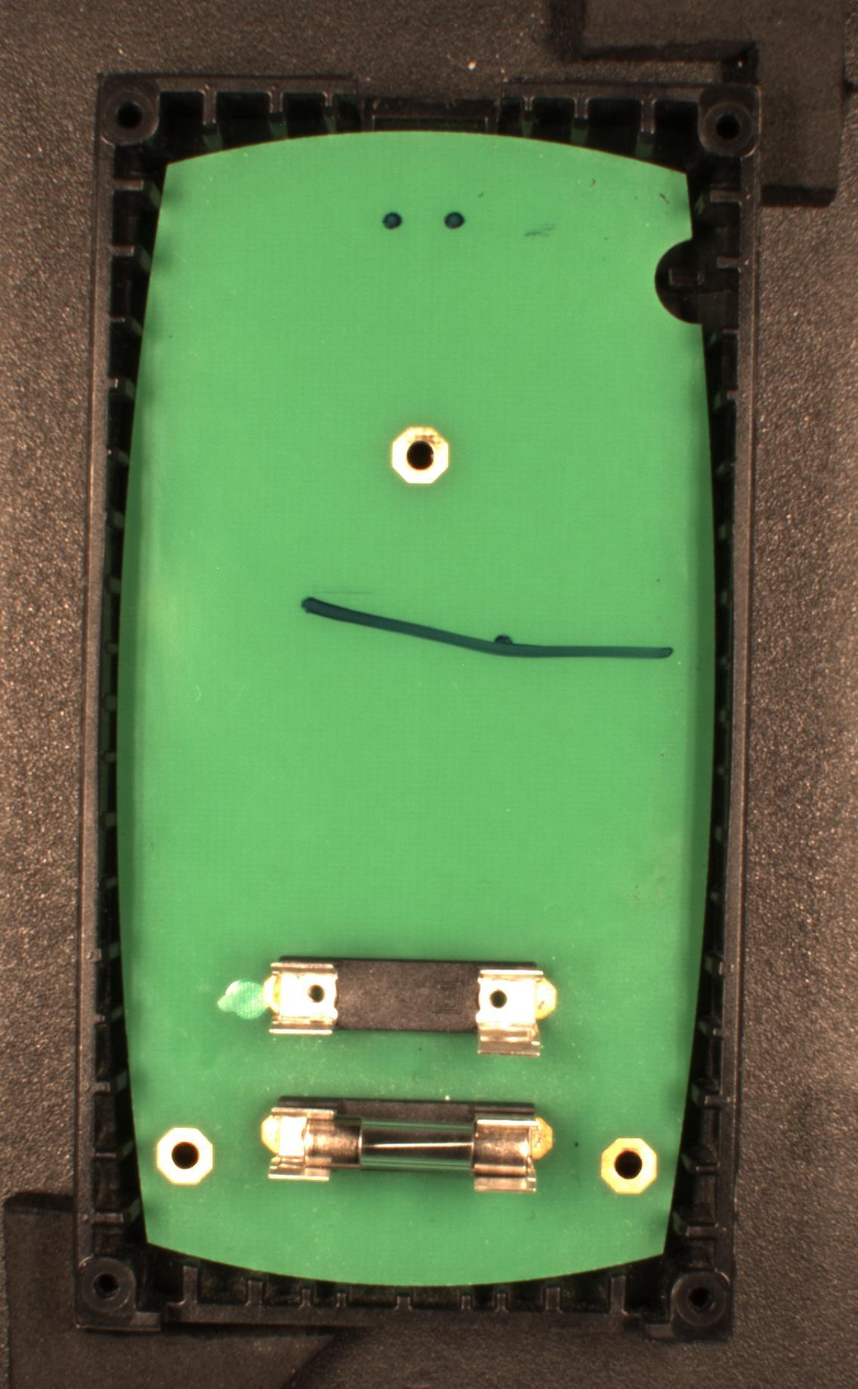Linijsko Ostecene: (300, 595, 675, 667)
Nepostojanje osiguraca: (258, 955, 559, 1058)
Tockasto Ostecenje: (380, 209, 406, 232), (443, 210, 466, 230)
